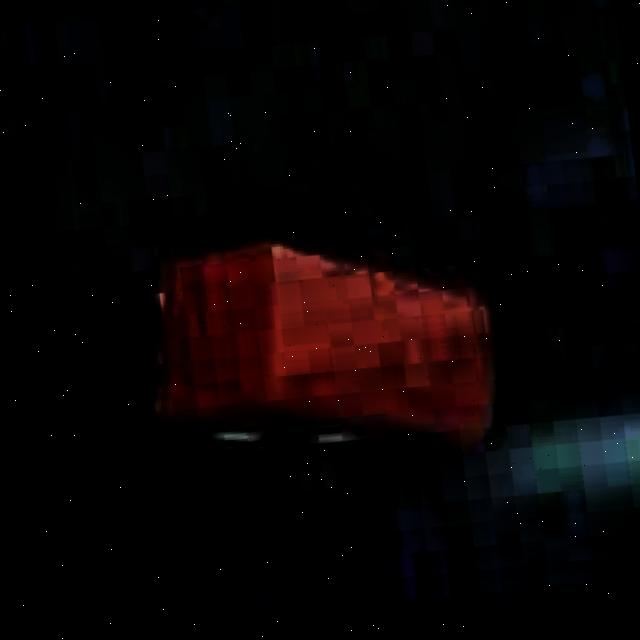bus: (121, 201, 523, 487)
